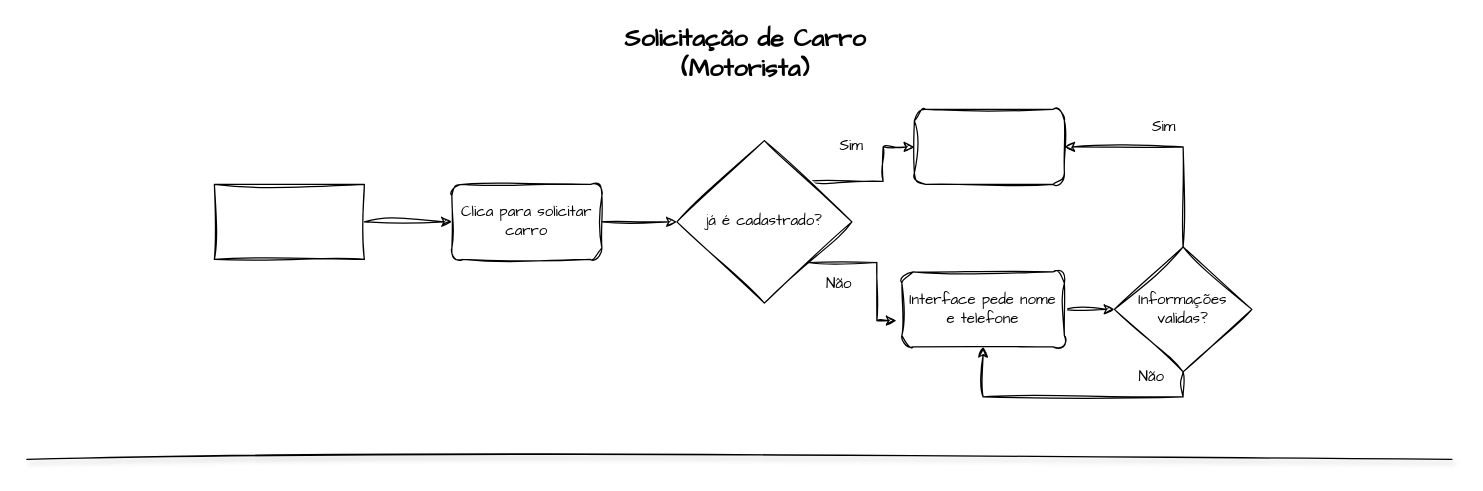
This 1483x491 diagram has some shape labels left out. Each missing label, with the centre of its shape:
Motorista: the point at 288,221
solicitação de evento enviada para o gestor: the point at 988,146
